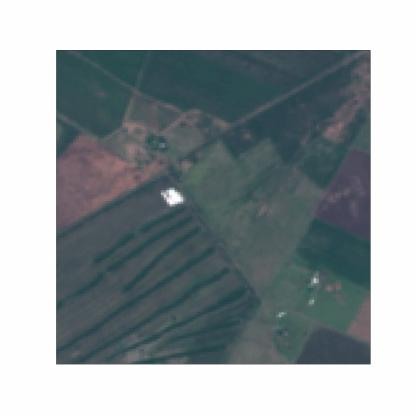silobolsa: (159, 188, 188, 207)
